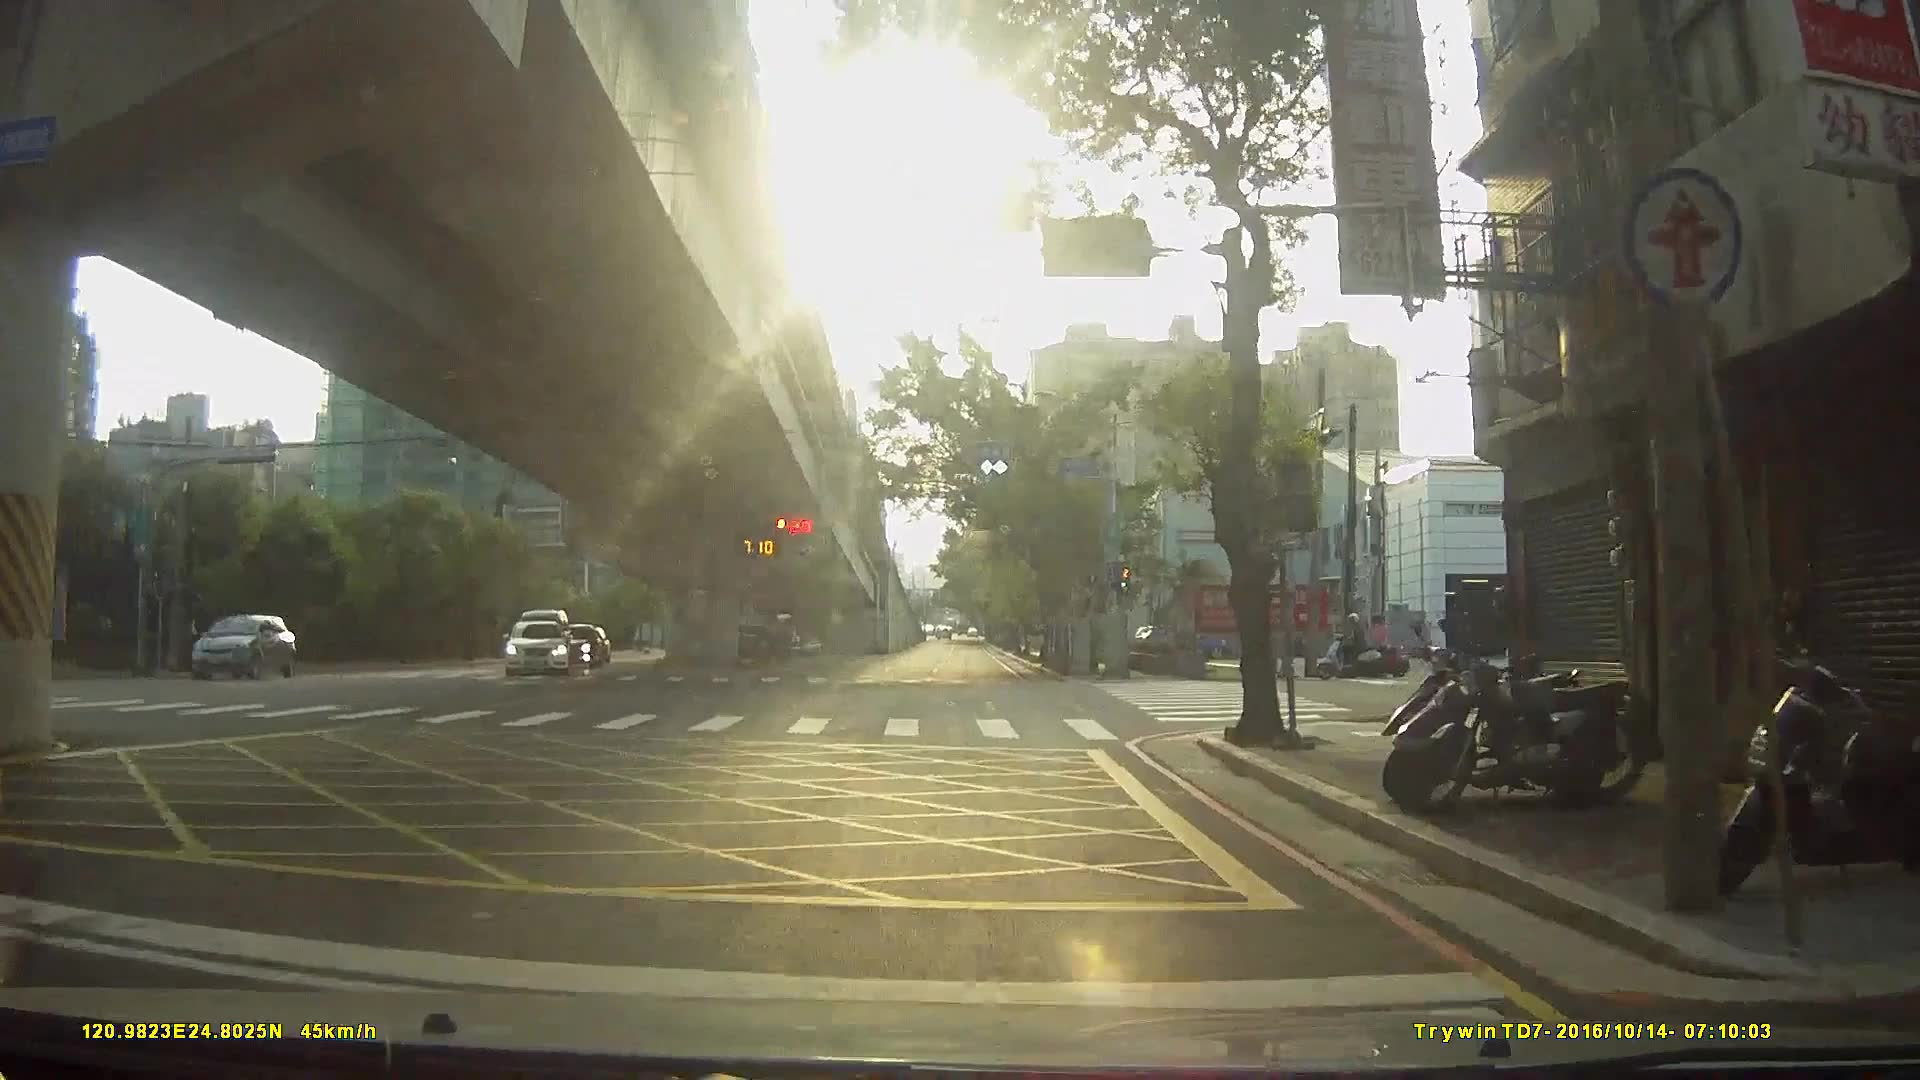rider: (1316, 611, 1385, 680)
vehicle: (174, 611, 299, 678), (496, 618, 568, 677), (712, 617, 797, 662), (546, 622, 600, 668)
